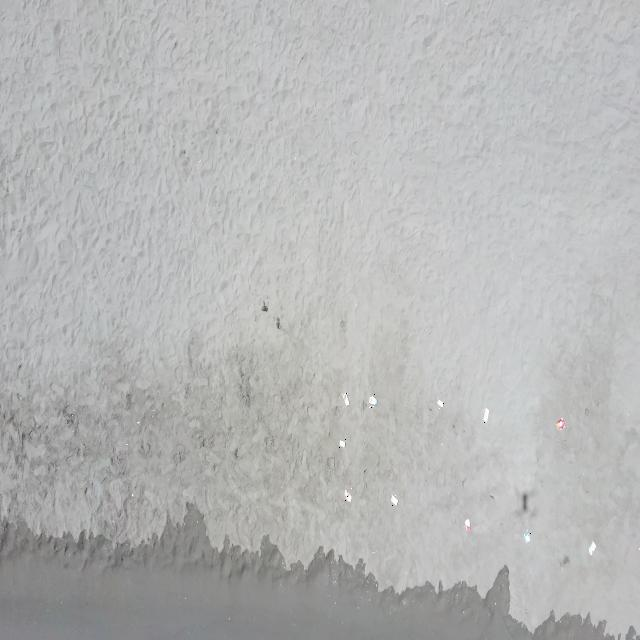retort-pouch: (556, 416, 566, 431), (368, 394, 378, 408), (590, 539, 598, 556), (344, 488, 352, 504), (391, 493, 399, 508), (342, 392, 350, 407), (464, 518, 472, 532), (483, 407, 490, 423), (524, 530, 531, 544), (437, 397, 444, 410), (339, 439, 346, 449)
